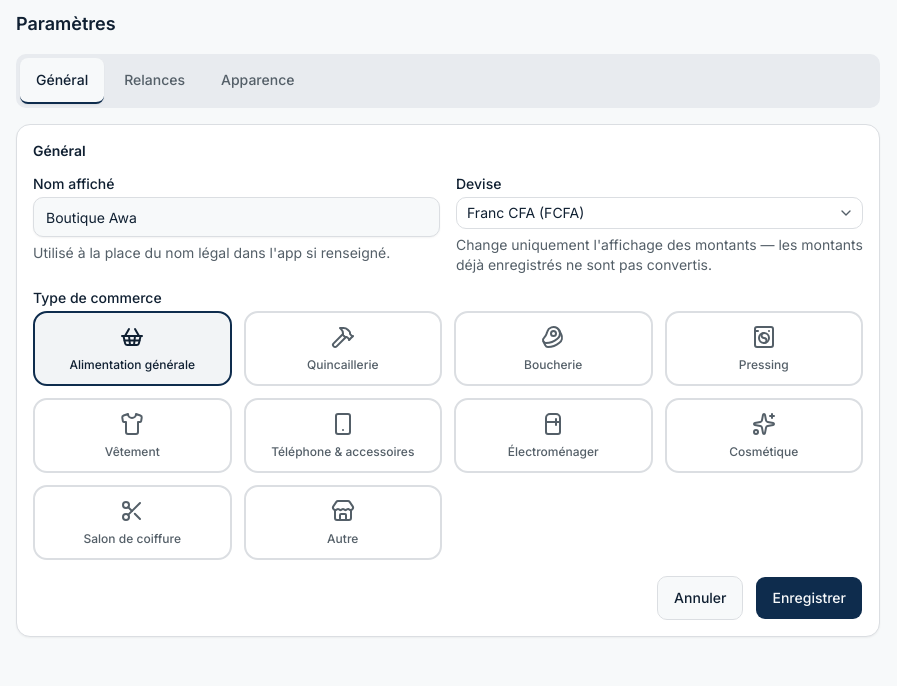
ParametresPanel › l'onglet Relances affiche à la fois la relance et les gabarits de reçu
Click the tab "Relances": x=155, y=81 [108,58,201,104]
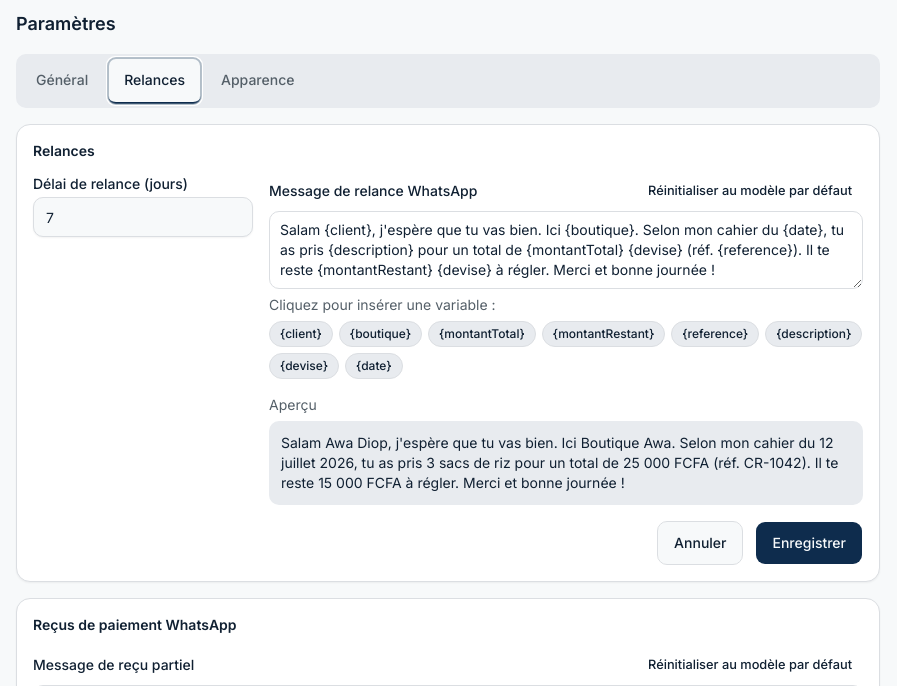
Check: the heading "Relances" is shown, box [33,142,95,159]
Check: the heading "Reçus de paiement WhatsApp" is shown, box [33,616,237,633]
